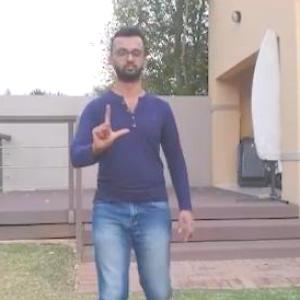land_hand: (89, 97, 137, 158)
